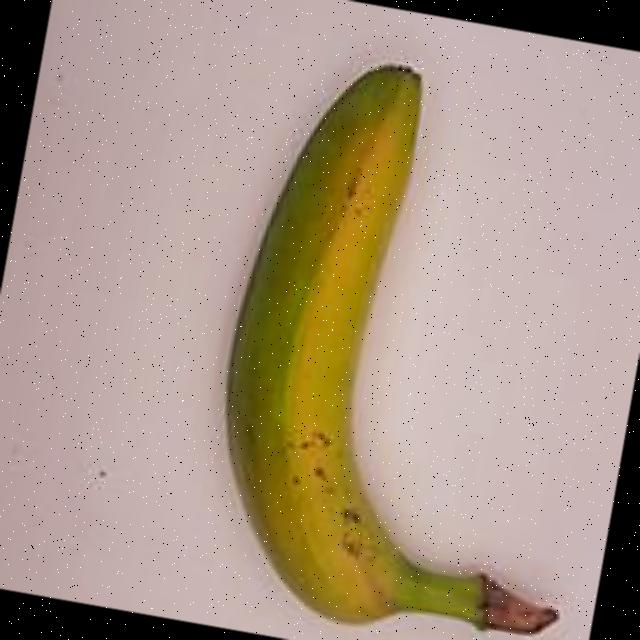Unripe: (147, 28, 640, 640)
